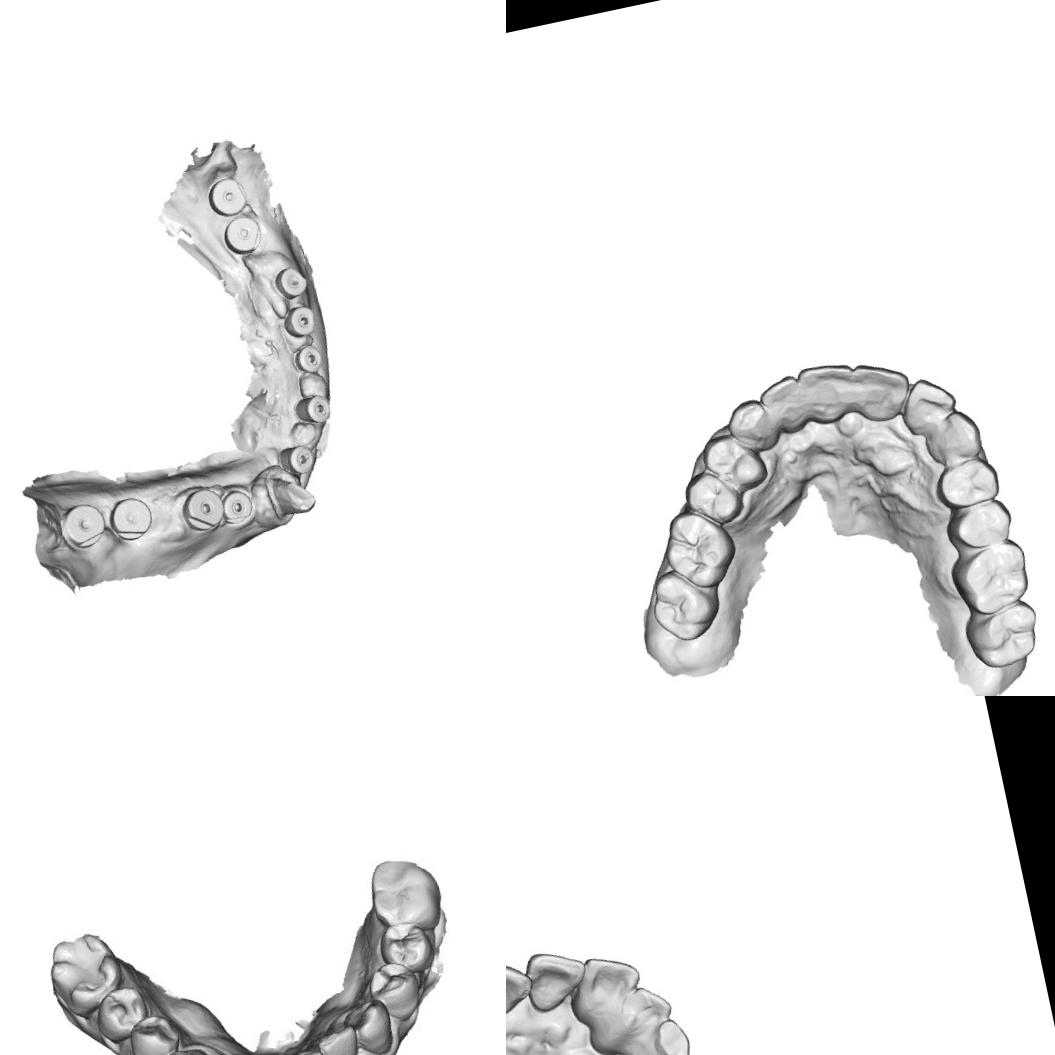canine: (920, 405, 986, 470), (722, 395, 784, 458), (617, 1013, 697, 1055), (350, 997, 398, 1055), (160, 1042, 222, 1055)
crown: (263, 464, 322, 522)
implant: (56, 496, 110, 554), (176, 482, 230, 538), (106, 493, 156, 546), (202, 172, 252, 222), (219, 211, 268, 259), (218, 484, 260, 532), (271, 260, 313, 303), (278, 300, 320, 342)
implant_minus: (292, 387, 337, 432), (274, 438, 321, 480), (290, 340, 328, 376)
incisor: (560, 948, 648, 1028), (599, 979, 680, 1055), (517, 942, 595, 1018), (893, 372, 962, 440), (795, 358, 862, 428), (852, 354, 916, 426), (755, 373, 809, 438), (506, 956, 540, 1019), (316, 1024, 364, 1055), (285, 1041, 335, 1055)
molar: (656, 502, 742, 596), (41, 927, 125, 1022), (945, 536, 1036, 622), (362, 851, 446, 937), (644, 561, 726, 648), (960, 596, 1045, 674)
premolar: (698, 427, 771, 499), (941, 494, 1017, 555), (680, 465, 748, 532), (930, 453, 1003, 514), (374, 917, 439, 980), (94, 980, 156, 1046), (368, 957, 426, 1027), (120, 1013, 182, 1055)
